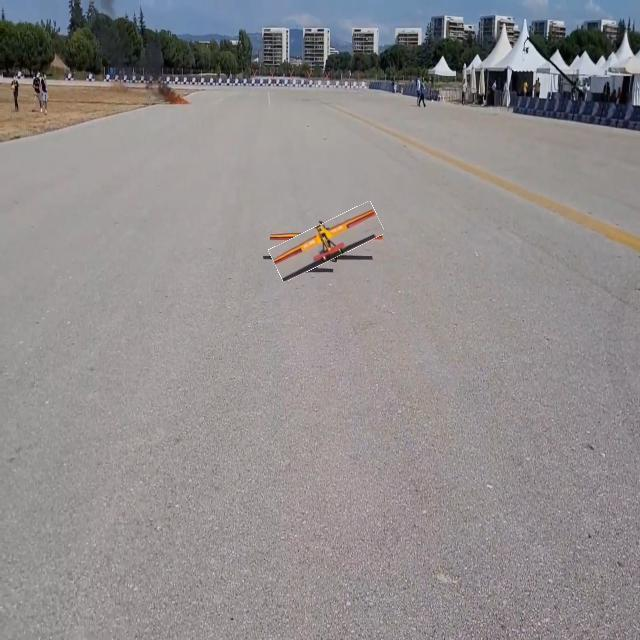iha: (296, 231, 354, 251)
